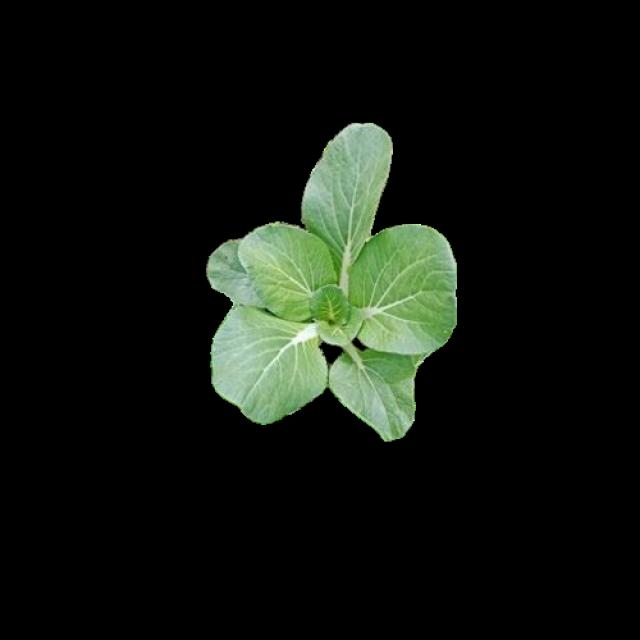healthy: (204, 120, 453, 434)
not-mature: (206, 123, 456, 436)
